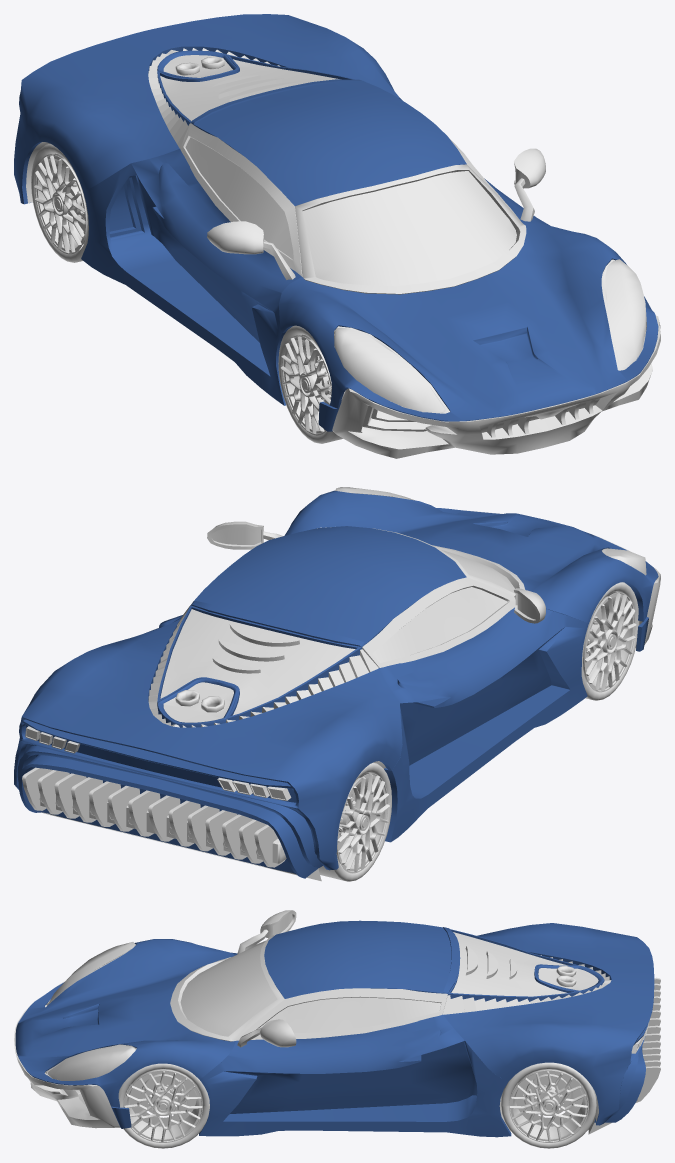
Rendered from AM_Retopo_Final.fbx.
The picture shows the model from 3 angles, top to bottom: view 1: azimuth 30°, elevation 25°; view 2: azimuth 150°, elevation 25°; view 3: azimuth 270°, elevation 25°; orthographic projection. The views are drawn at different scales.
Visible parts, largest first — view 1: AM_Car_body, AM_Extra_01, AM_WindowGlass, AM_FrontLight_glass, AM_Tire_Brake.003, AM_Tire_Brake.002; view 2: AM_Car_body, AM_WindowGlass, AM_Extra_01, AM_Extra_02, AM_Tire_Brake.002, AM_Tire_Brake.003, AM_FrontLight_glass, AM_BackLight; view 3: AM_Car_body, AM_WindowGlass, AM_Extra_01, AM_Tire_Brake, AM_Tire_Brake.001, AM_FrontLight_glass, AM_Extra_02.
Boxes of the visible parts, left/top/right/bottom form: AM_Car_body: left=14, top=14, right=658, bottom=431; AM_Extra_01: left=26, top=48, right=660, bottom=458; AM_WindowGlass: left=160, top=55, right=516, bottom=286; AM_FrontLight_glass: left=334, top=259, right=646, bottom=413; AM_Tire_Brake.003: left=31, top=143, right=88, bottom=262; AM_Tire_Brake.002: left=278, top=325, right=342, bottom=443; AM_Car_body: left=14, top=490, right=658, bottom=878; AM_WindowGlass: left=160, top=550, right=515, bottom=722; AM_Extra_01: left=25, top=510, right=660, bottom=881; AM_Extra_02: left=22, top=767, right=285, bottom=867; AM_Tire_Brake.002: left=581, top=582, right=639, bottom=700; AM_Tire_Brake.003: left=318, top=762, right=391, bottom=881; AM_FrontLight_glass: left=335, top=487, right=646, bottom=575; AM_BackLight: left=26, top=729, right=284, bottom=799; AM_Car_body: left=15, top=920, right=654, bottom=1137; AM_WindowGlass: left=180, top=932, right=598, bottom=1036; AM_Extra_01: left=14, top=910, right=648, bottom=1134; AM_Tire_Brake: left=501, top=1062, right=596, bottom=1148; AM_Tire_Brake.001: left=118, top=1063, right=209, bottom=1148; AM_FrontLight_glass: left=45, top=942, right=136, bottom=1080; AM_Extra_02: left=635, top=977, right=660, bottom=1102.
Size of the model in its own units: 218 by 120 by 471.
